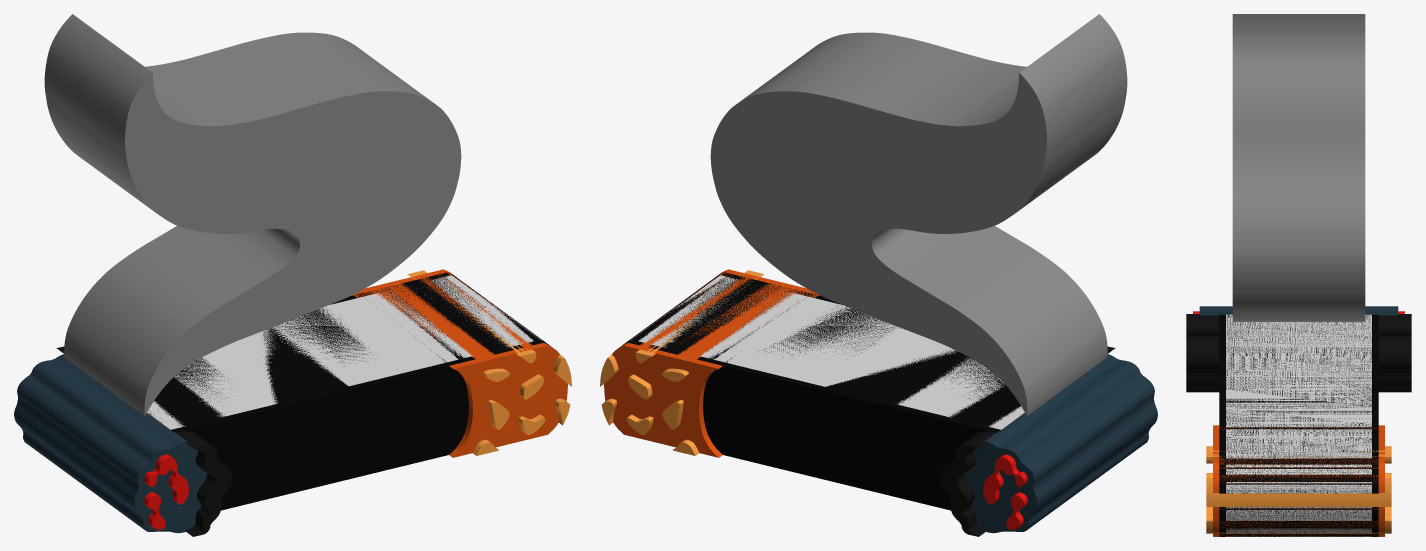
3 views of the same model, side by side, from view 1: azimuth 30°, elevation 25°; view 2: azimuth 150°, elevation 25°; view 3: azimuth 270°, elevation 25° (orthographic). The views are drawn at different scales.
Visible parts, largest first — view 1: U+1F6AC_layer00_obj00, U+1F6AC_layer00_obj01, U+1F6AC_layer02_obj00, U+1F6AC_layer01_obj00, U+1F6AC_layer05_obj00, U+1F6AC_layer03_obj00, U+1F6AC_layer02_obj01, U+1F6AC_layer07_obj00, U+1F6AC_layer06_obj01; view 2: U+1F6AC_layer00_obj00, U+1F6AC_layer00_obj01, U+1F6AC_layer02_obj00, U+1F6AC_layer01_obj00, U+1F6AC_layer05_obj00, U+1F6AC_layer03_obj00, U+1F6AC_layer02_obj01, U+1F6AC_layer07_obj00, U+1F6AC_layer06_obj01; view 3: U+1F6AC_layer00_obj00, U+1F6AC_layer01_obj00, U+1F6AC_layer02_obj00, U+1F6AC_layer02_obj01, U+1F6AC_layer07_obj00, U+1F6AC_layer03_obj00, U+1F6AC_layer04_obj01, U+1F6AC_layer05_obj00, U+1F6AC_layer04_obj05, U+1F6AC_layer04_obj02.
Part boxes in pixels (x1,y1,x2,y2): U+1F6AC_layer00_obj00: [44, 14, 461, 337]; U+1F6AC_layer00_obj01: [46, 74, 425, 415]; U+1F6AC_layer02_obj00: [149, 272, 548, 510]; U+1F6AC_layer01_obj00: [147, 275, 541, 429]; U+1F6AC_layer05_obj00: [14, 354, 207, 533]; U+1F6AC_layer03_obj00: [352, 269, 567, 457]; U+1F6AC_layer02_obj01: [354, 273, 548, 365]; U+1F6AC_layer07_obj00: [56, 346, 232, 536]; U+1F6AC_layer06_obj01: [32, 368, 188, 504]; U+1F6AC_layer00_obj00: [710, 14, 1127, 338]; U+1F6AC_layer00_obj01: [747, 74, 1125, 415]; U+1F6AC_layer02_obj00: [623, 272, 1023, 510]; U+1F6AC_layer01_obj00: [630, 275, 1024, 429]; U+1F6AC_layer05_obj00: [964, 354, 1157, 533]; U+1F6AC_layer03_obj00: [604, 269, 819, 457]; U+1F6AC_layer02_obj01: [623, 273, 818, 365]; U+1F6AC_layer07_obj00: [939, 346, 1115, 536]; U+1F6AC_layer06_obj01: [983, 368, 1139, 504]; U+1F6AC_layer00_obj00: [1232, 14, 1365, 321]; U+1F6AC_layer01_obj00: [1226, 314, 1371, 536]; U+1F6AC_layer02_obj00: [1219, 314, 1378, 536]; U+1F6AC_layer02_obj01: [1219, 427, 1378, 536]; U+1F6AC_layer07_obj00: [1186, 314, 1411, 392]; U+1F6AC_layer03_obj00: [1213, 425, 1384, 536]; U+1F6AC_layer04_obj01: [1206, 478, 1391, 506]; U+1F6AC_layer05_obj00: [1199, 306, 1398, 315]; U+1F6AC_layer04_obj05: [1206, 513, 1391, 533]; U+1F6AC_layer04_obj02: [1206, 450, 1391, 463].
Size of the model in its own units: 0.3175 by 0.3077 by 0.17.
